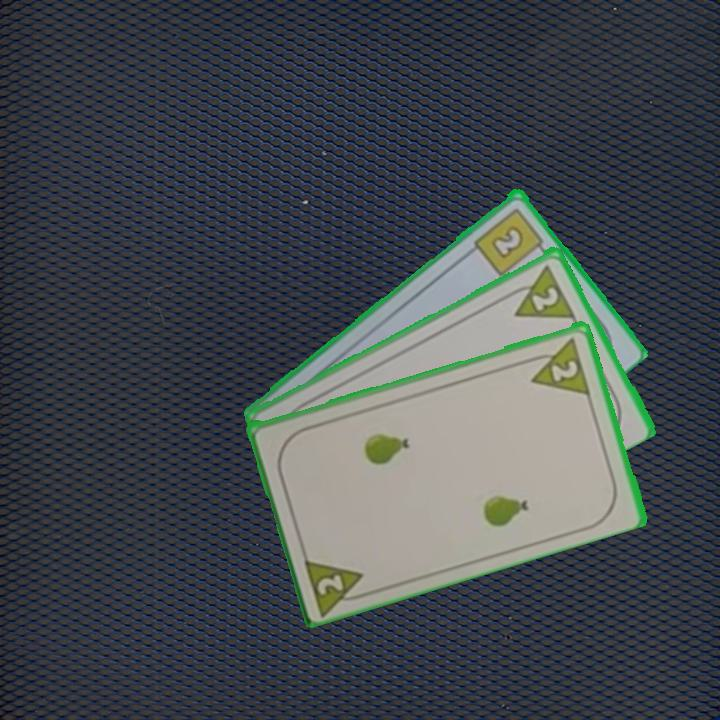2b: (470, 204, 550, 278)
2p: (299, 551, 374, 615), (522, 333, 593, 397), (528, 282, 562, 314)
